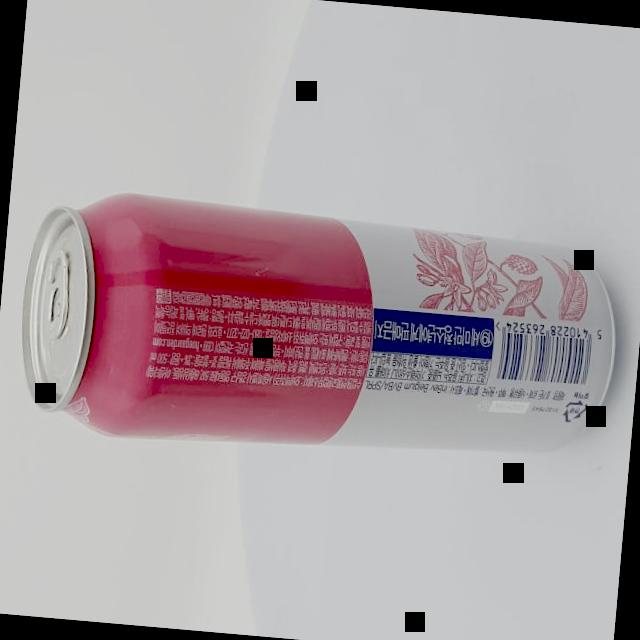can: (9, 184, 624, 480)
